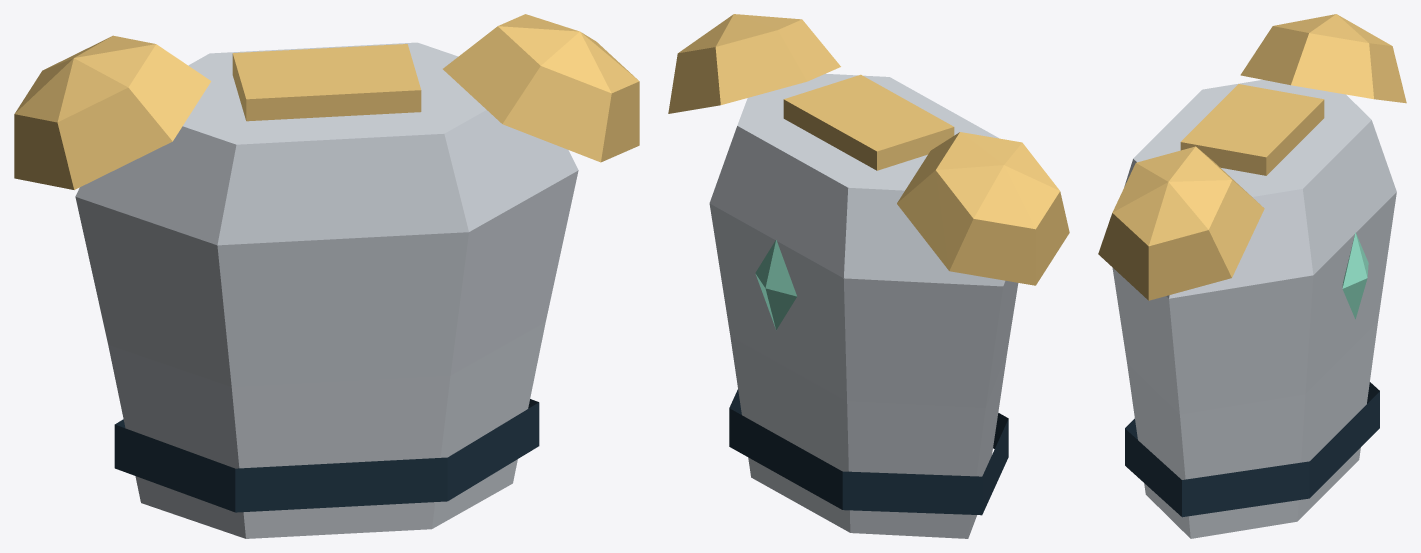
Rendered from Chestplate.obj.
The picture shows the model from 3 angles, left to right: view 1: azimuth 30°, elevation 25°; view 2: azimuth 150°, elevation 25°; view 3: azimuth 270°, elevation 25°; orthographic projection. The views are drawn at different scales.
Size of the model in its own units: 2.63 by 2.29 by 1.66.
